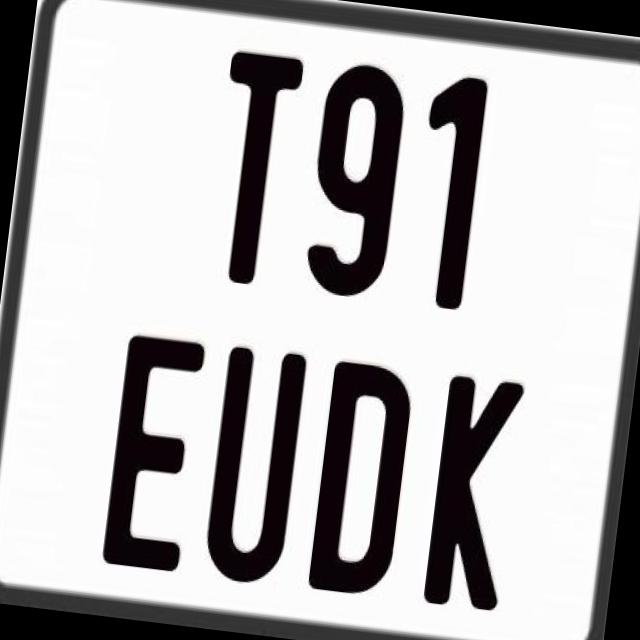1: (402, 68, 494, 314)
9: (297, 56, 405, 301)
D: (304, 357, 418, 604)
E: (98, 332, 208, 575)
K: (418, 371, 522, 615)
T: (201, 48, 308, 290)
U: (200, 344, 310, 589)
